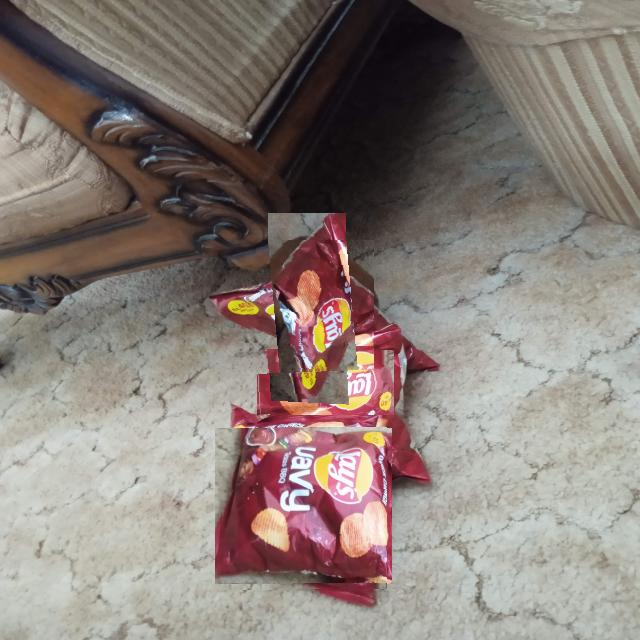Plastic: (220, 422, 387, 590), (241, 240, 374, 374), (256, 350, 394, 416)
